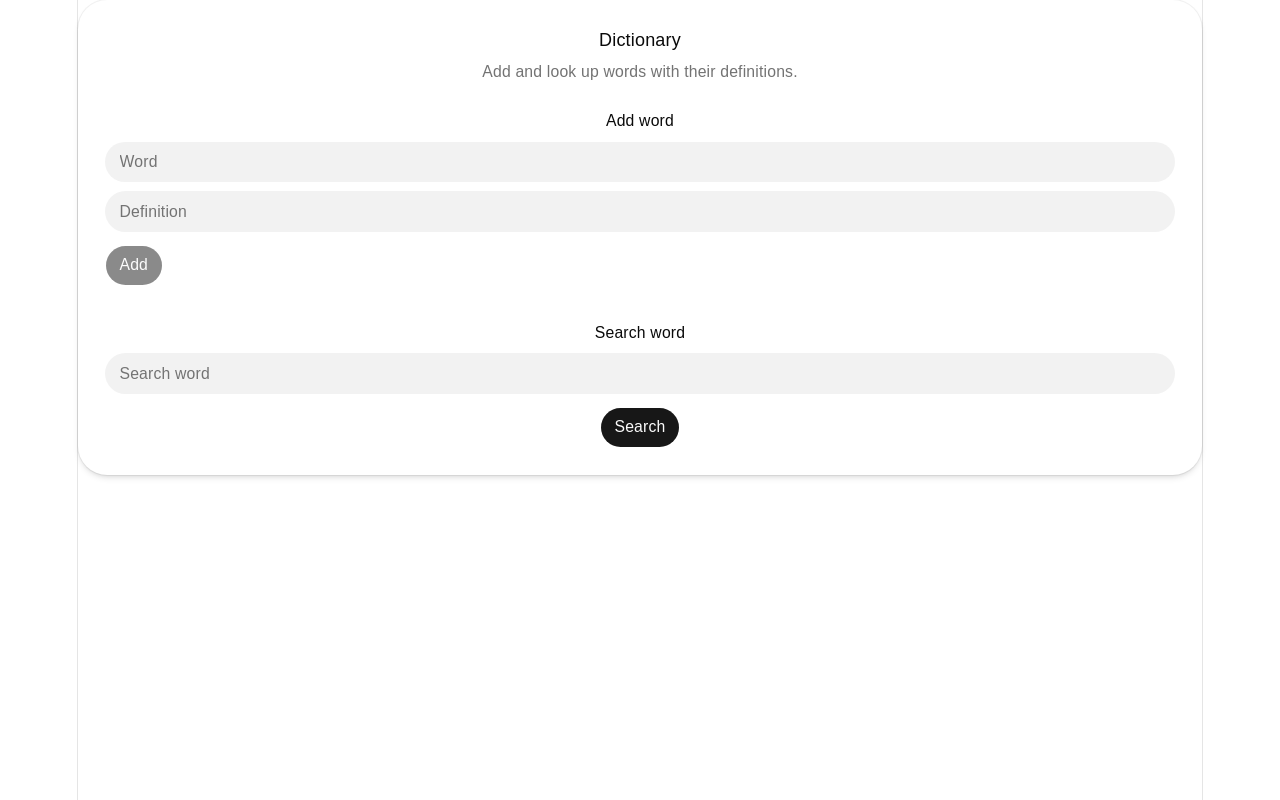
Scenario: DictionaryChallenge › looks up a word that exists
The image size is (1280, 800).
Type "Apple" into the field with placeholder "Search word". click: (640, 374)
box: [105,353,1175,394]
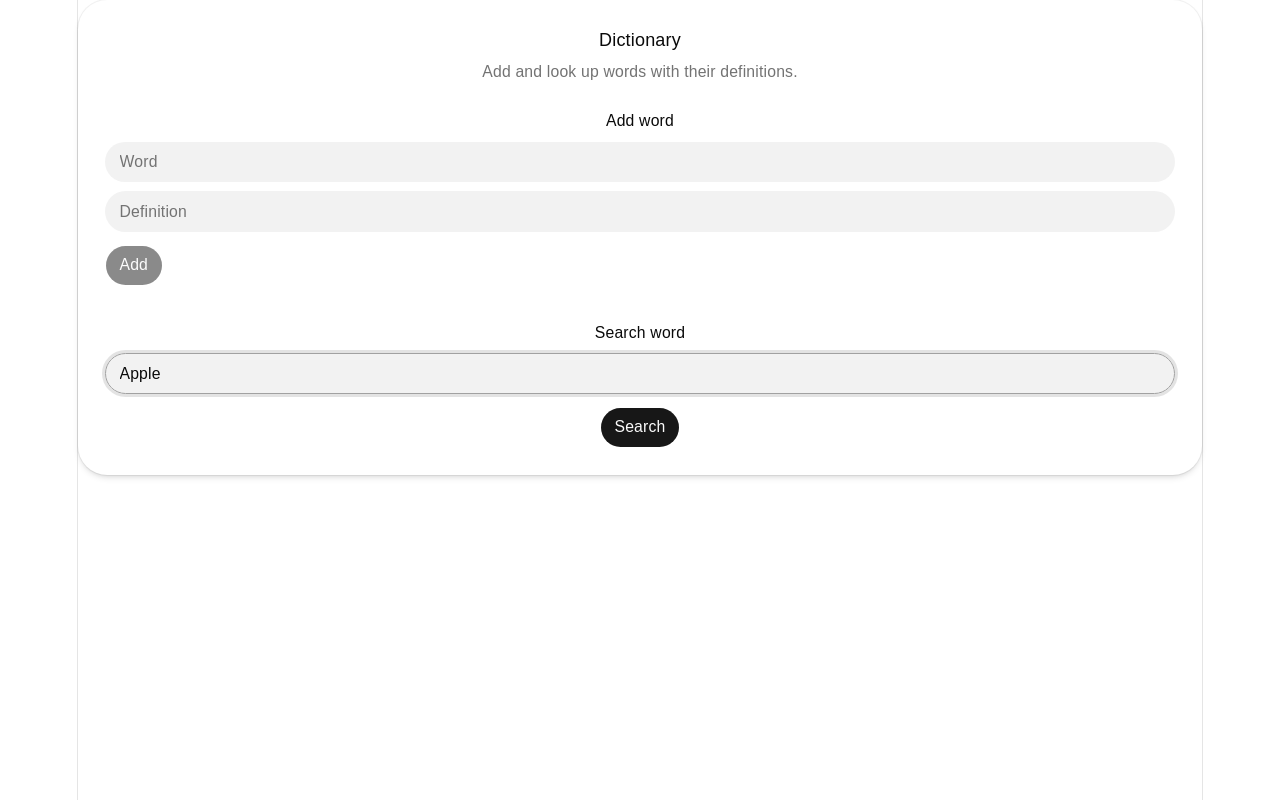
Click the button "Search". click: (640, 428)
box: [600,407,680,448]
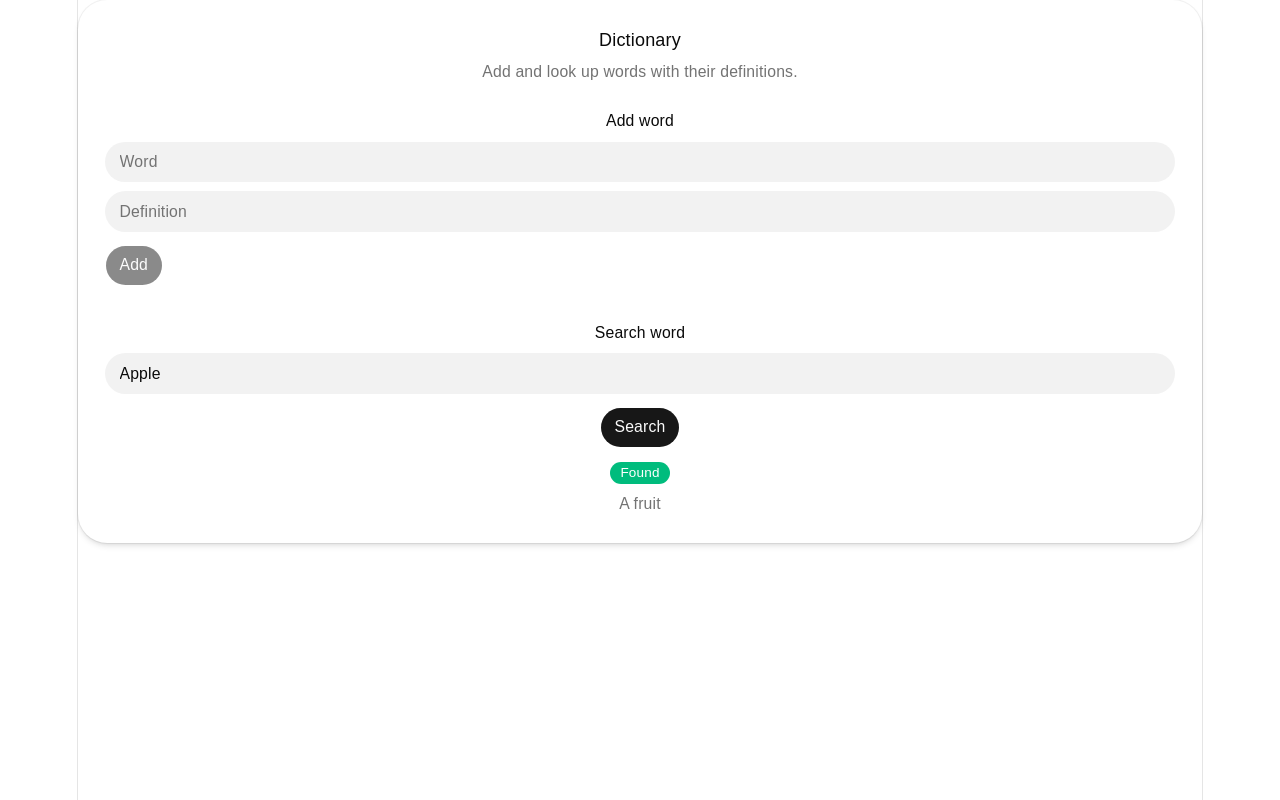
Expected: the icon "Found" is shown, [610,462,670,484]
Expected: the text "A fruit" is shown, [619,496,661,512]
